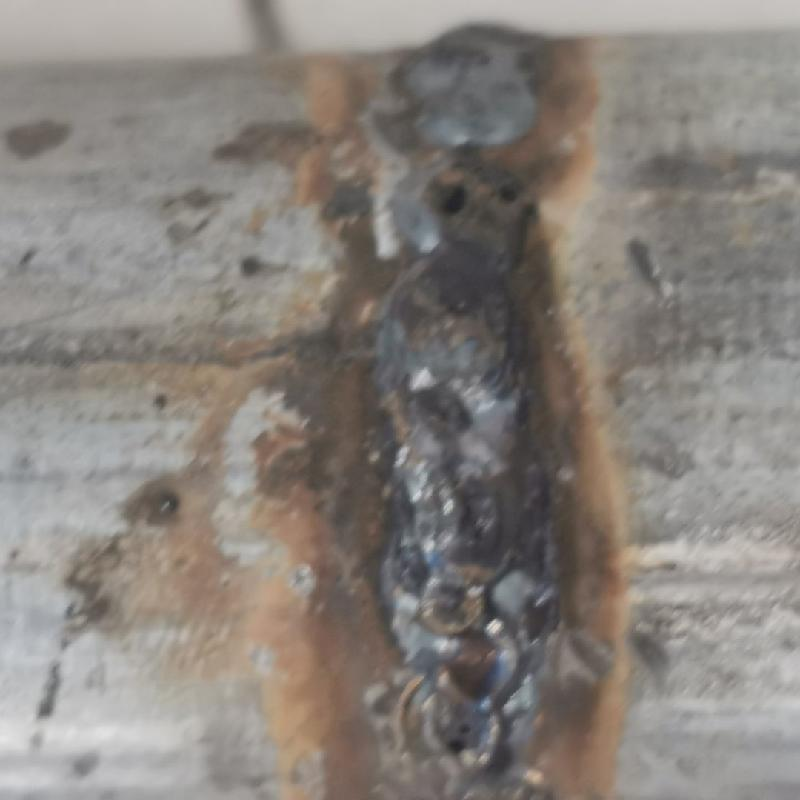Surface_pores: (434, 156, 523, 233), (428, 712, 492, 763)
crater: (394, 454, 541, 787)
wrong_size: (393, 23, 544, 430)
